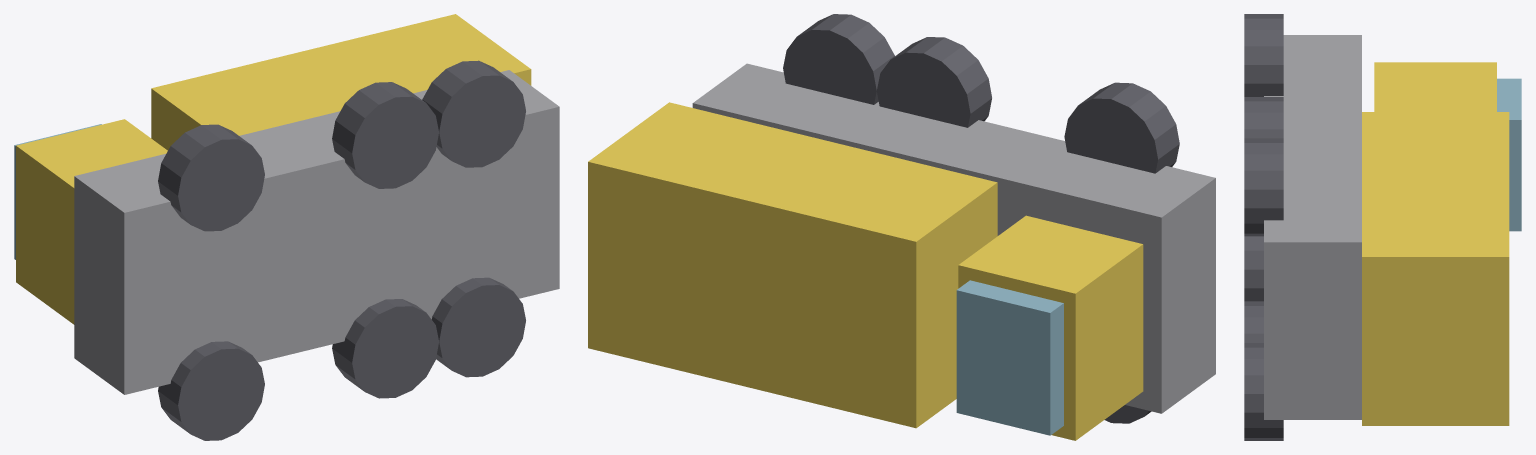
The model's file is haul_truck.glb.
3 views of the same model, side by side, from view 1: azimuth 30°, elevation 25°; view 2: azimuth 150°, elevation 25°; view 3: azimuth 270°, elevation 25° (orthographic). The views are drawn at different scales.
Visible parts, largest first — view 1: Chassis, DumpBed, Cab, Wheel_-3_2.3, Wheel_1_2.3, Wheel_3_2.3, Wheel_-3_-2.3, Wheel_1_-2.3, Wheel_3_-2.3; view 2: DumpBed, Chassis, Cab, CabGlass, Wheel_-3_2.3, Wheel_1_2.3, Wheel_3_2.3; view 3: DumpBed, Chassis, Cab, Wheel_3_2.3, Wheel_-3_2.3, CabGlass, Wheel_3_-2.3, Wheel_1_2.3, Wheel_-3_-2.3, Wheel_1_-2.3.
Boxes of the visible parts, x1,y1,x2,y2 form: Chassis: (74,70,559,394); DumpBed: (151,14,531,150); Cab: (16,119,167,324); Wheel_-3_2.3: (158,124,264,231); Wheel_1_2.3: (332,82,438,188); Wheel_3_2.3: (422,60,525,167); Wheel_-3_-2.3: (158,341,264,440); Wheel_1_-2.3: (332,299,438,398); Wheel_3_-2.3: (432,277,525,377); DumpBed: (588,102,997,428); Chassis: (692,63,1215,413); Cab: (958,215,1143,440); CabGlass: (956,280,1063,435); Wheel_-3_2.3: (1064,82,1179,173); Wheel_1_2.3: (877,37,991,127); Wheel_3_2.3: (783,14,894,104); DumpBed: (1362,112,1509,425); Chassis: (1264,35,1361,419); Cab: (1374,62,1496,111); Wheel_3_2.3: (1244,138,1283,236); Wheel_-3_2.3: (1244,14,1283,96); CabGlass: (1497,78,1521,231); Wheel_3_-2.3: (1244,343,1283,440); Wheel_1_2.3: (1244,97,1283,138); Wheel_-3_-2.3: (1244,236,1263,301); Wheel_1_-2.3: (1244,301,1263,342).
Bounding box in the file's own units: 10.5 × 6.6 × 5.65.
